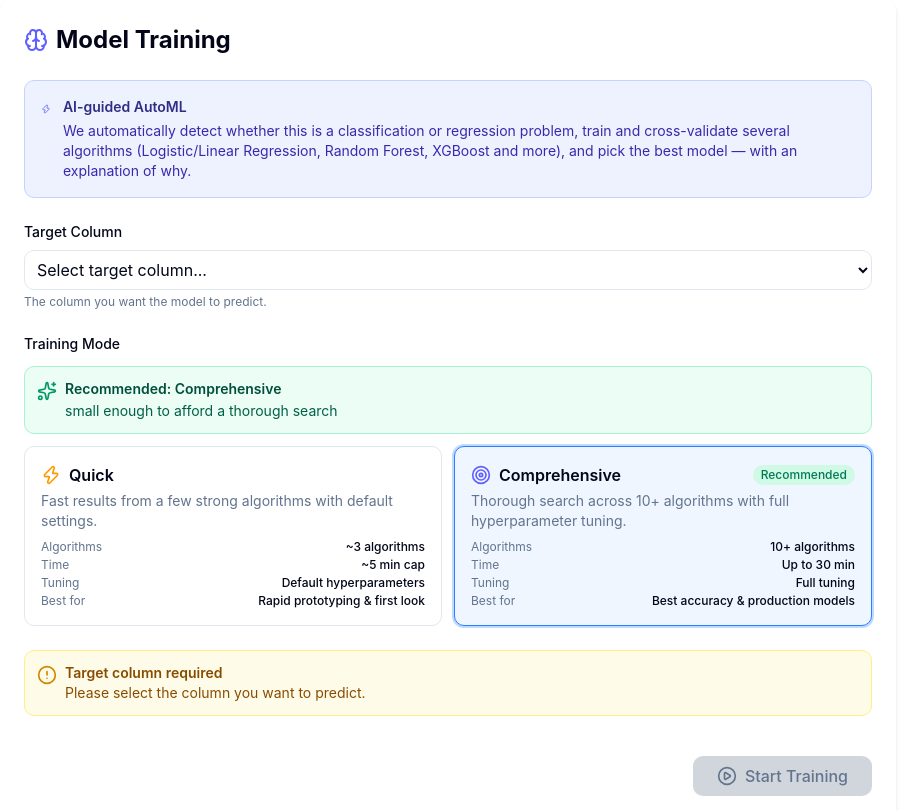
it: ModelPage training wiring › returns to the configuration view with a notice when training is cancelled
Expected: the element with test id "mode-recommendation" is shown, [24,366,872,434]
Select "target" in the dropdown at coordinates (448, 270), box [24,250,872,290]
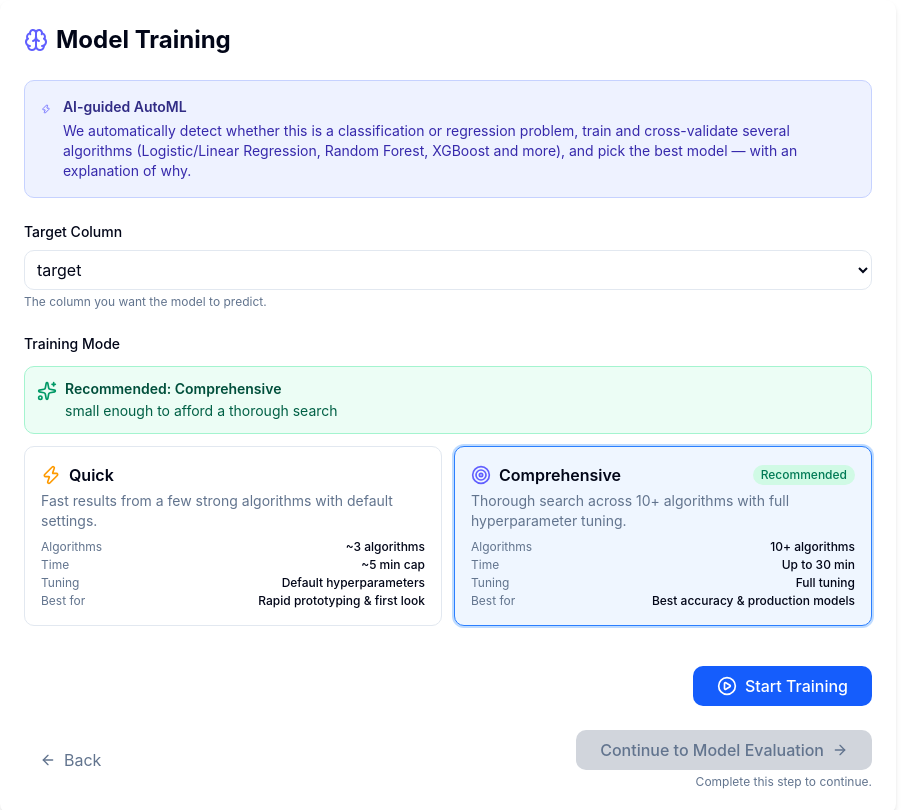
Click the button "Start Training".
click(782, 686)  # box [693,666,872,706]
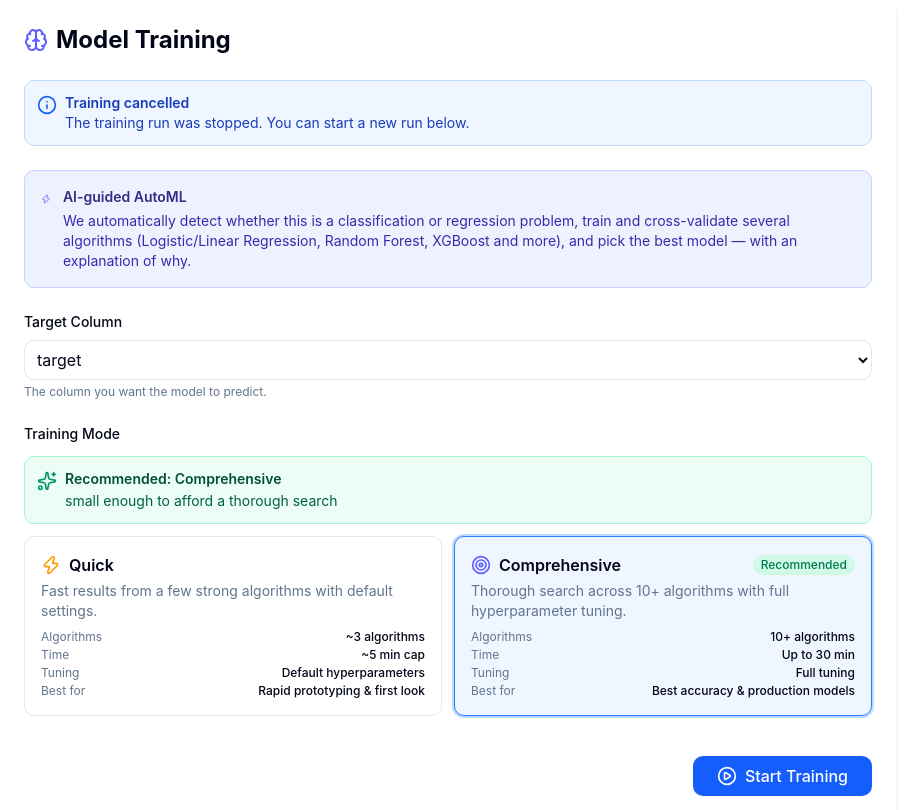
Expected: the button "Start Training" is shown, [693,756,872,796]
Now the text "Training cancelled" is shown, box [65,94,189,111]
